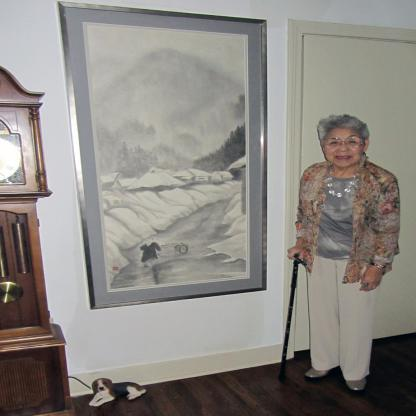picture frame: (110, 14, 322, 359)
